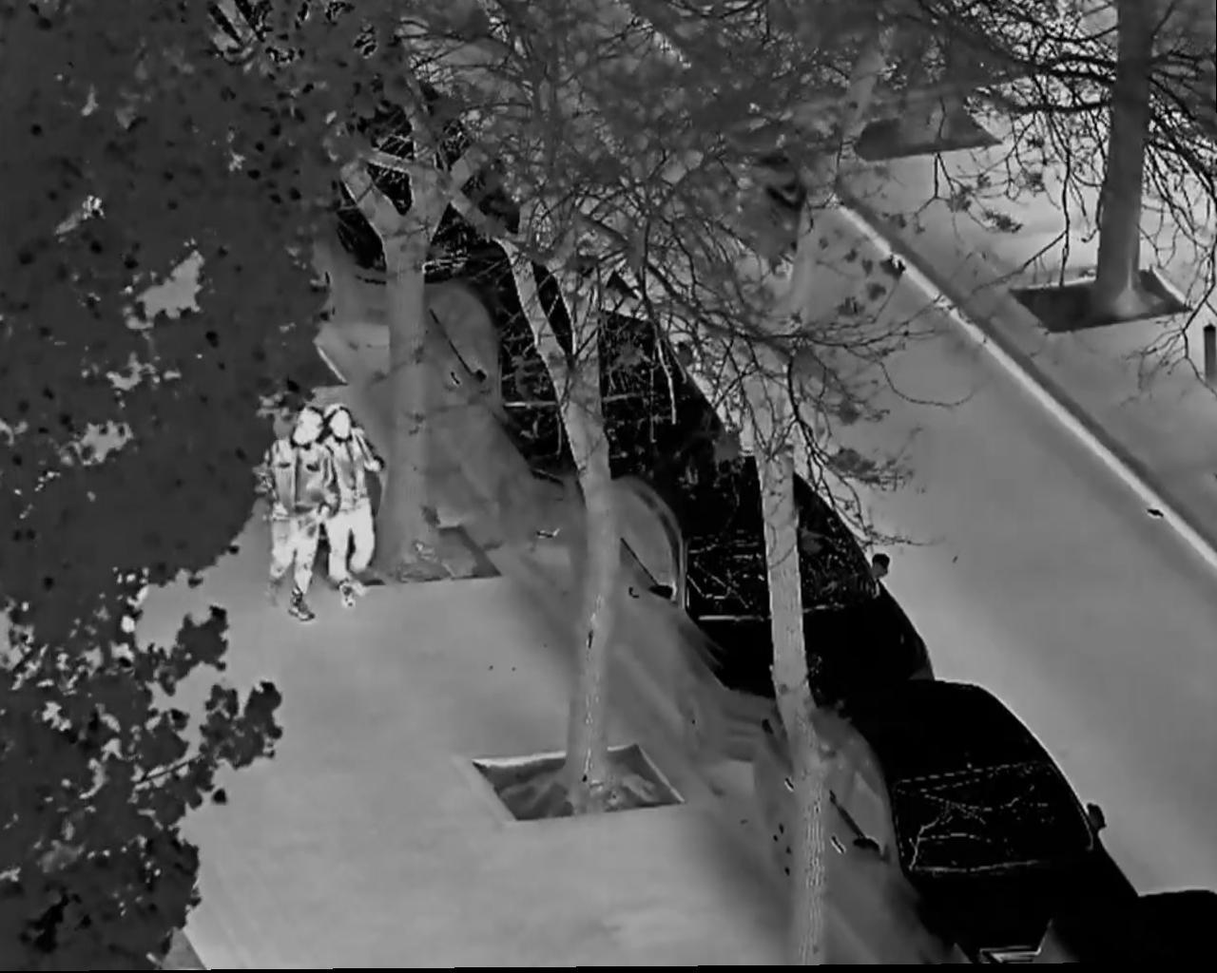person: (256, 408, 337, 619), (308, 407, 383, 611)
